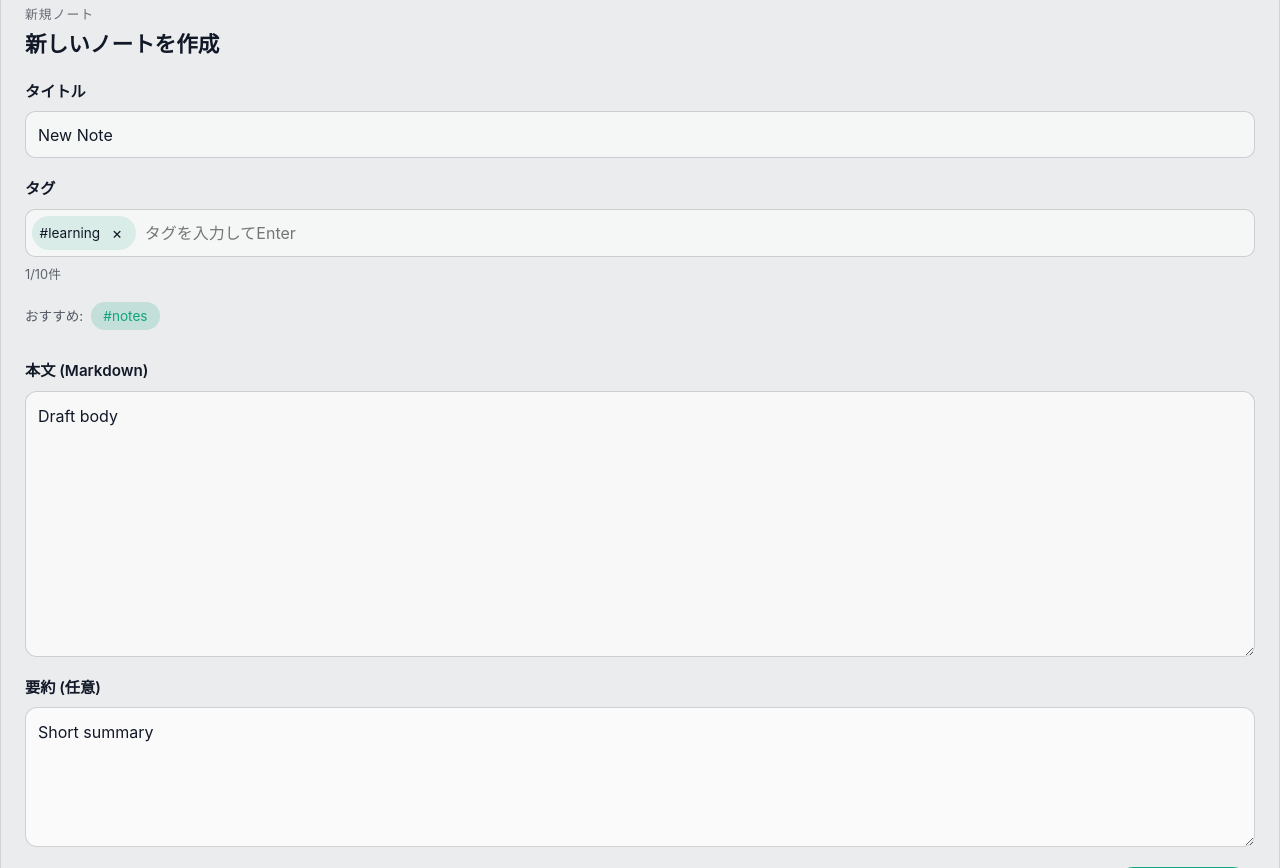
NoteEditor › shows validation errors when submitting empty title and content
Clear the field labelled "タイトル": (640, 135) [25,111,1255,158]
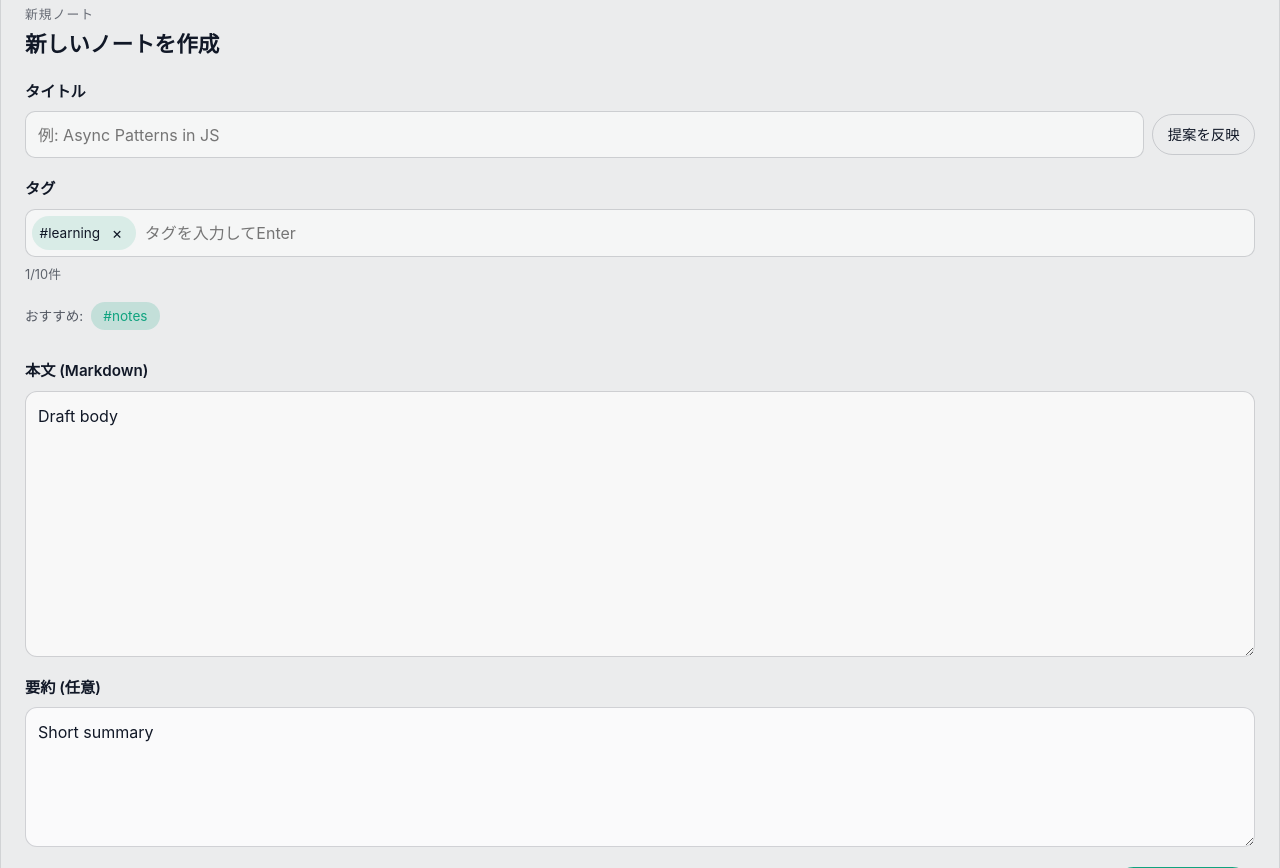
Clear the text box labelled "本文 (Markdown)": (640, 524) [25,390,1255,656]
(page scrolled)
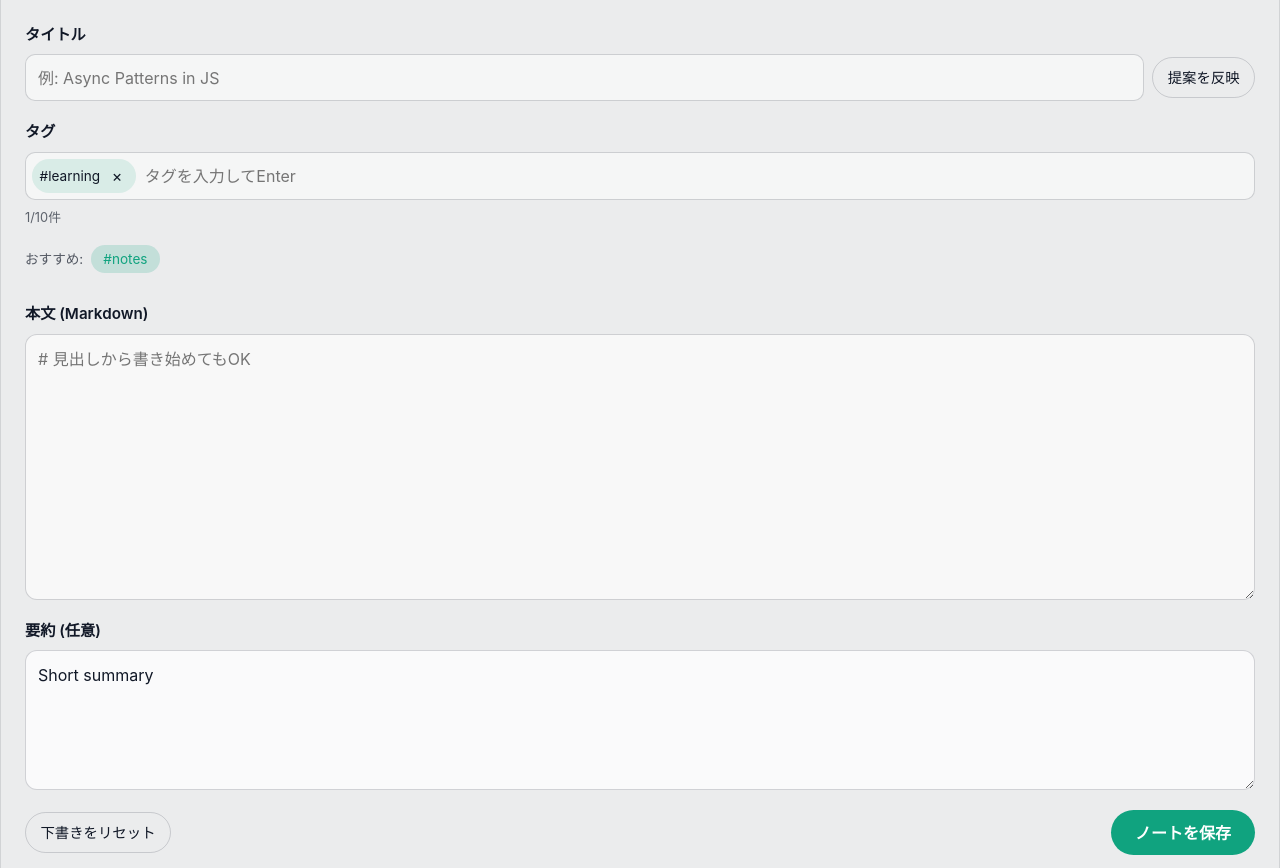
Submit the form labelled "タイトル"
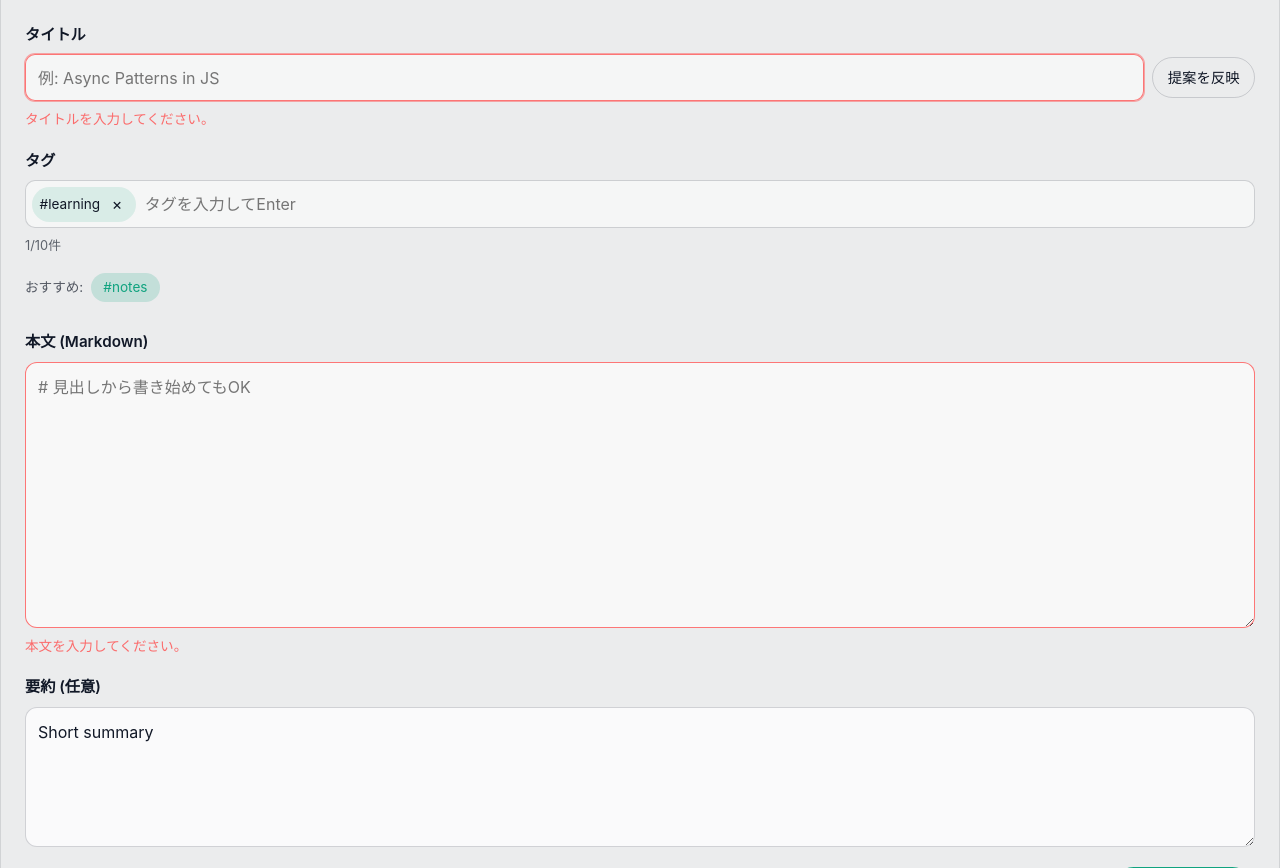
Now the text "タイトルを入力してください。" is shown, box [25,111,214,127]
Now the text "本文を入力してください。" is shown, box [25,638,187,654]
